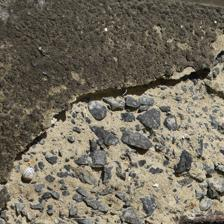Crack: (3, 33, 210, 154)
